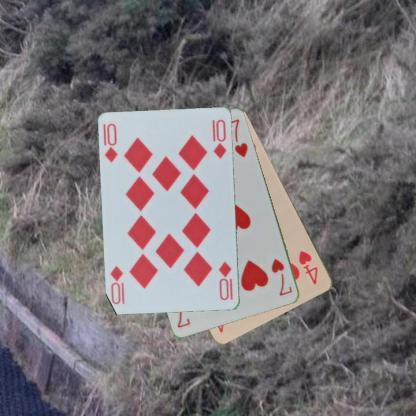10d: (216, 258, 235, 302), (102, 121, 119, 164)
4h: (297, 248, 320, 286)
7h: (268, 256, 294, 298)
